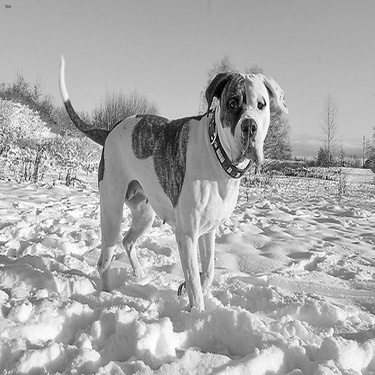dog: (51, 49, 295, 317)
